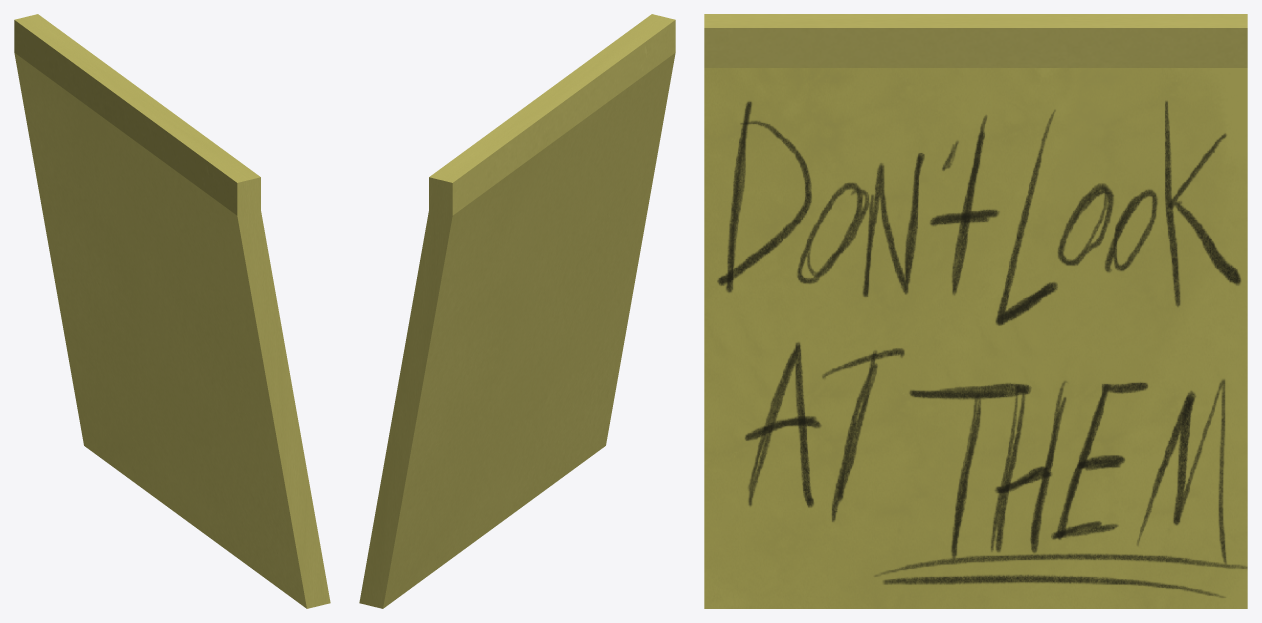
Rendered from stickynote.fbx.
The picture shows the model from 3 angles, left to right: view 1: azimuth 30°, elevation 25°; view 2: azimuth 150°, elevation 25°; view 3: azimuth 270°, elevation 25°; orthographic projection. The views are drawn at different scales.
Parts seen in each view (by area): view 1: Cube; view 2: Cube; view 3: Cube.
Boxes of the visible parts, x1,y1,x2,y2 form: Cube: (14, 14, 330, 608); Cube: (359, 14, 675, 608); Cube: (704, 14, 1247, 608).
Size of the model in its own units: 10.99 by 49.86 by 45.48.
Materials: 1 (1 with a texture image).
